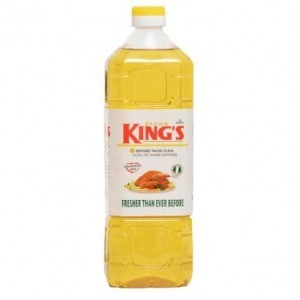vegetable oil_brain food: (105, 82, 197, 247)
